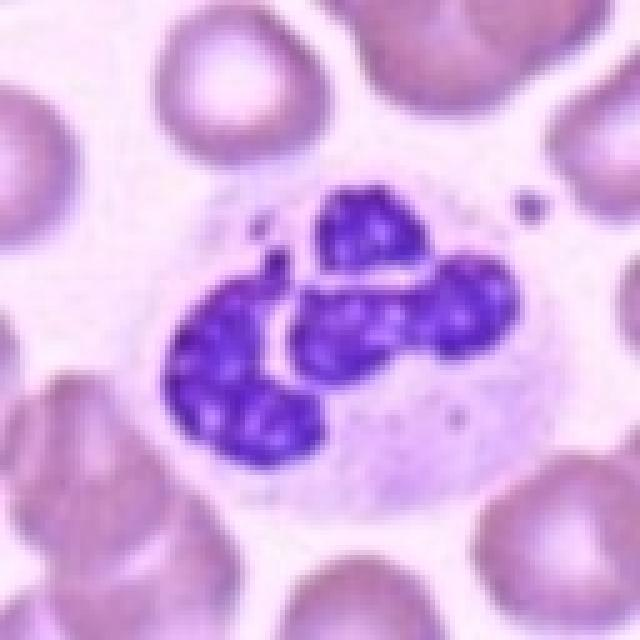neutro: (99, 113, 524, 527)
